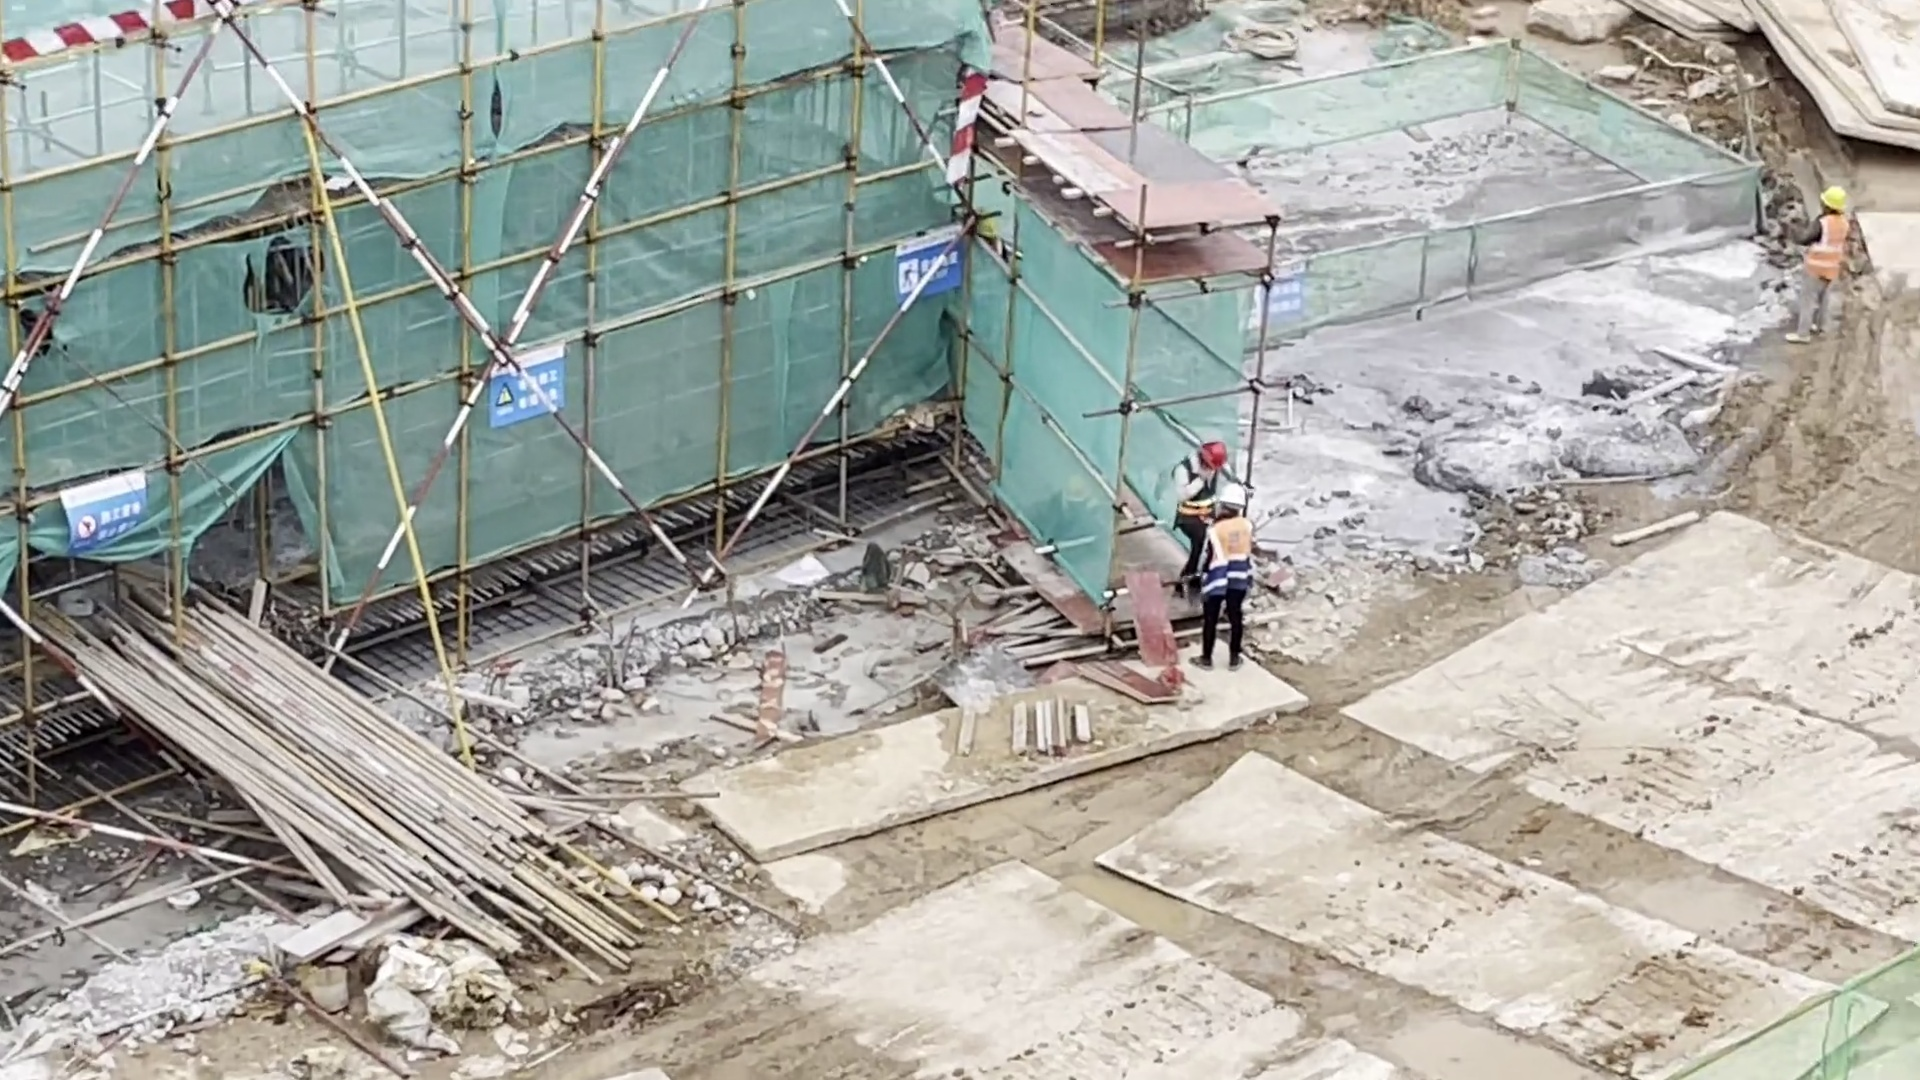helmet: (1199, 435, 1231, 476), (1815, 185, 1847, 209), (1220, 483, 1249, 506)
person: (1172, 422, 1229, 608), (1790, 177, 1850, 347), (1202, 495, 1259, 674)
vest: (1206, 521, 1253, 590), (1810, 221, 1850, 276)
